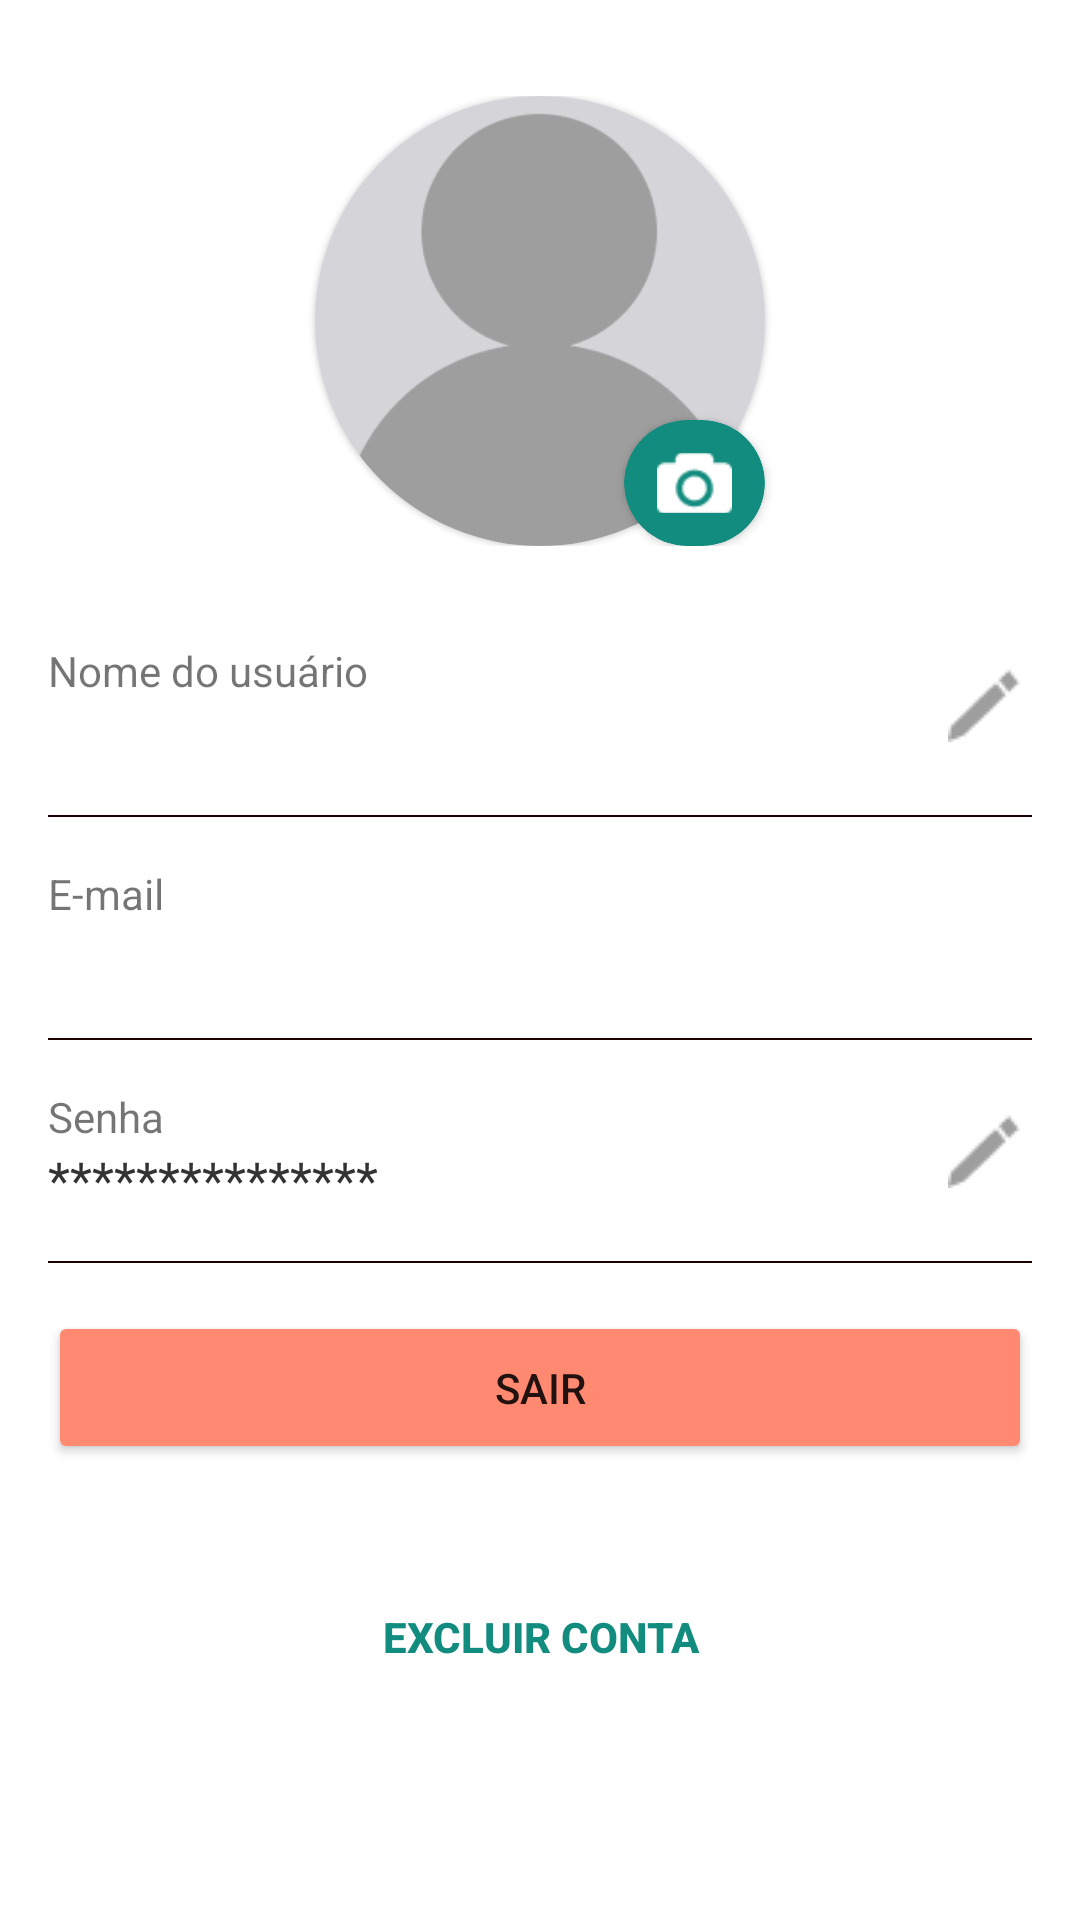

Where to tap for icons on this 1080w x 1920h app screen, as (x=x, y=y):
editar: (x=984, y=706), (x=984, y=1152)
